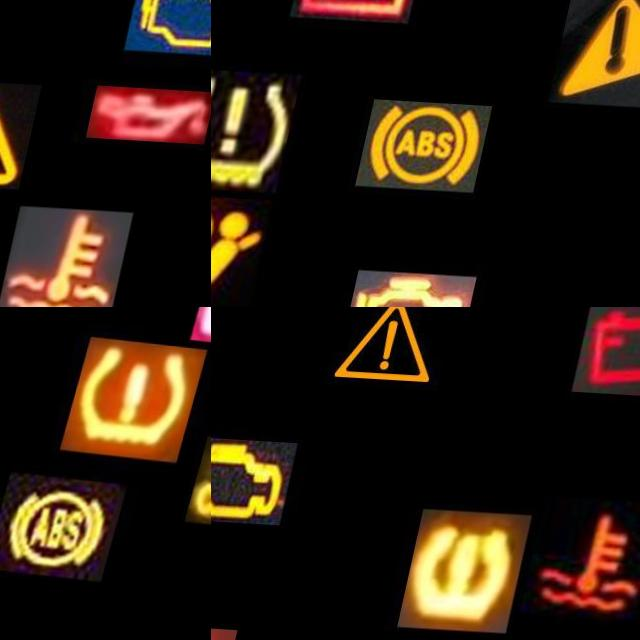Central Warning lamp: (326, 307, 464, 395), (558, 0, 640, 100), (0, 74, 53, 185)
Engine cooling system: (16, 201, 150, 307), (536, 490, 640, 613)
